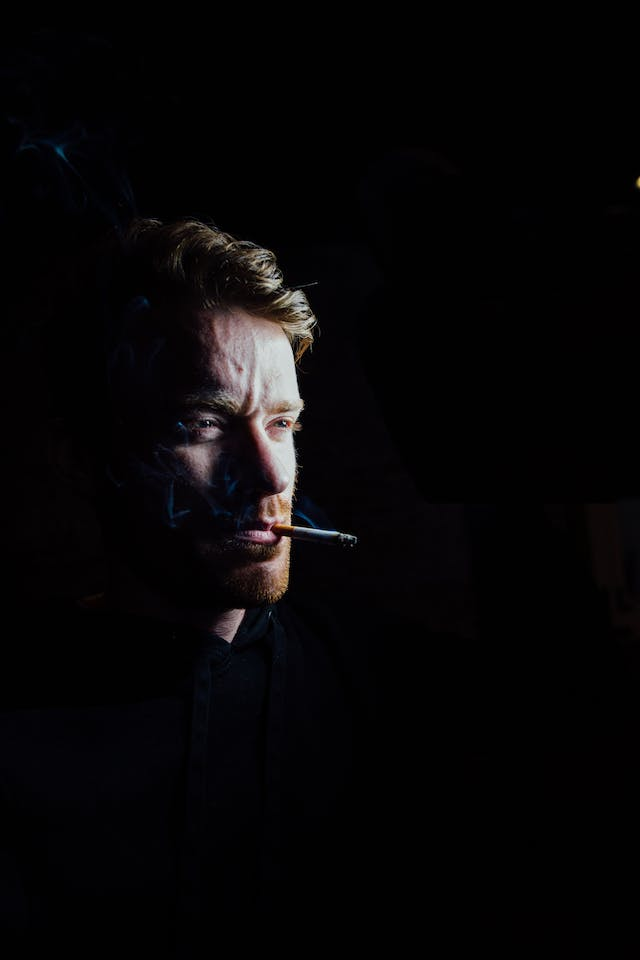Cigarette: (270, 519, 359, 553)
